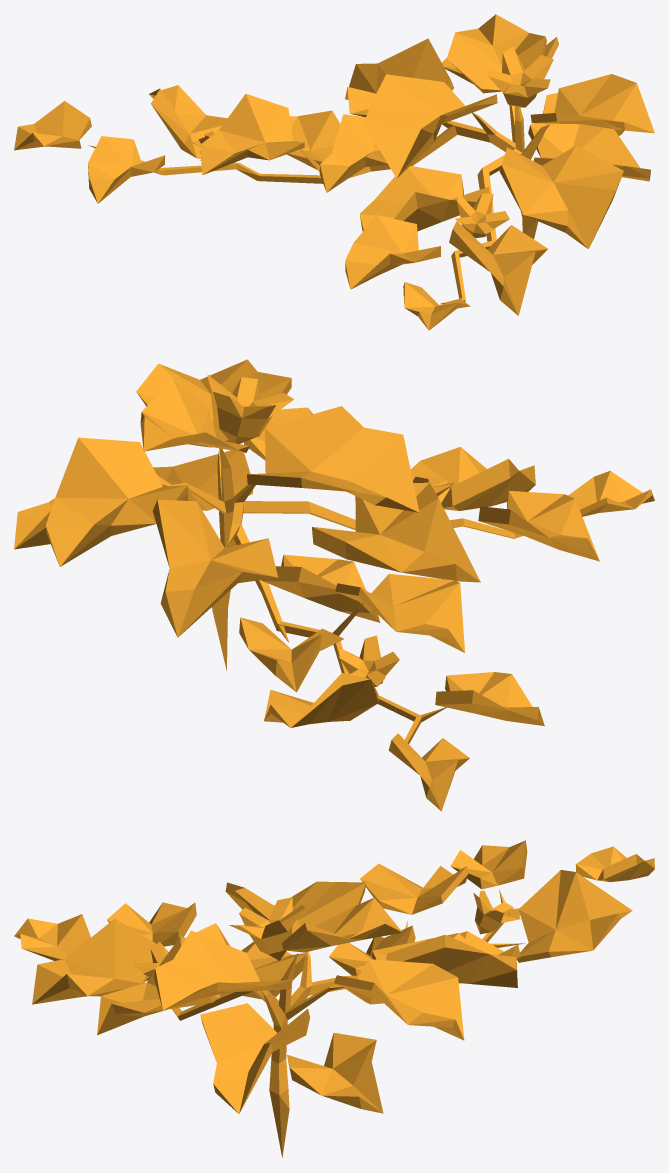
Rendered from SM_Pumpkin_Flowering_A.fbx.
3 renders of one model, top to bottom at view 1: azimuth 30°, elevation 25°; view 2: azimuth 150°, elevation 25°; view 3: azimuth 270°, elevation 25°, orthographic. The views are drawn at different scales.
Parts seen in each view (by area): view 1: pumpkin-flowering-a; view 2: pumpkin-flowering-a; view 3: pumpkin-flowering-a.
Boxes of the visible parts, x1,y1,x2,y2 form: pumpkin-flowering-a: [14, 14, 654, 330]; pumpkin-flowering-a: [14, 359, 654, 811]; pumpkin-flowering-a: [14, 840, 654, 1157].
Size of the model in its own units: 1.3 by 0.6157 by 1.41.
